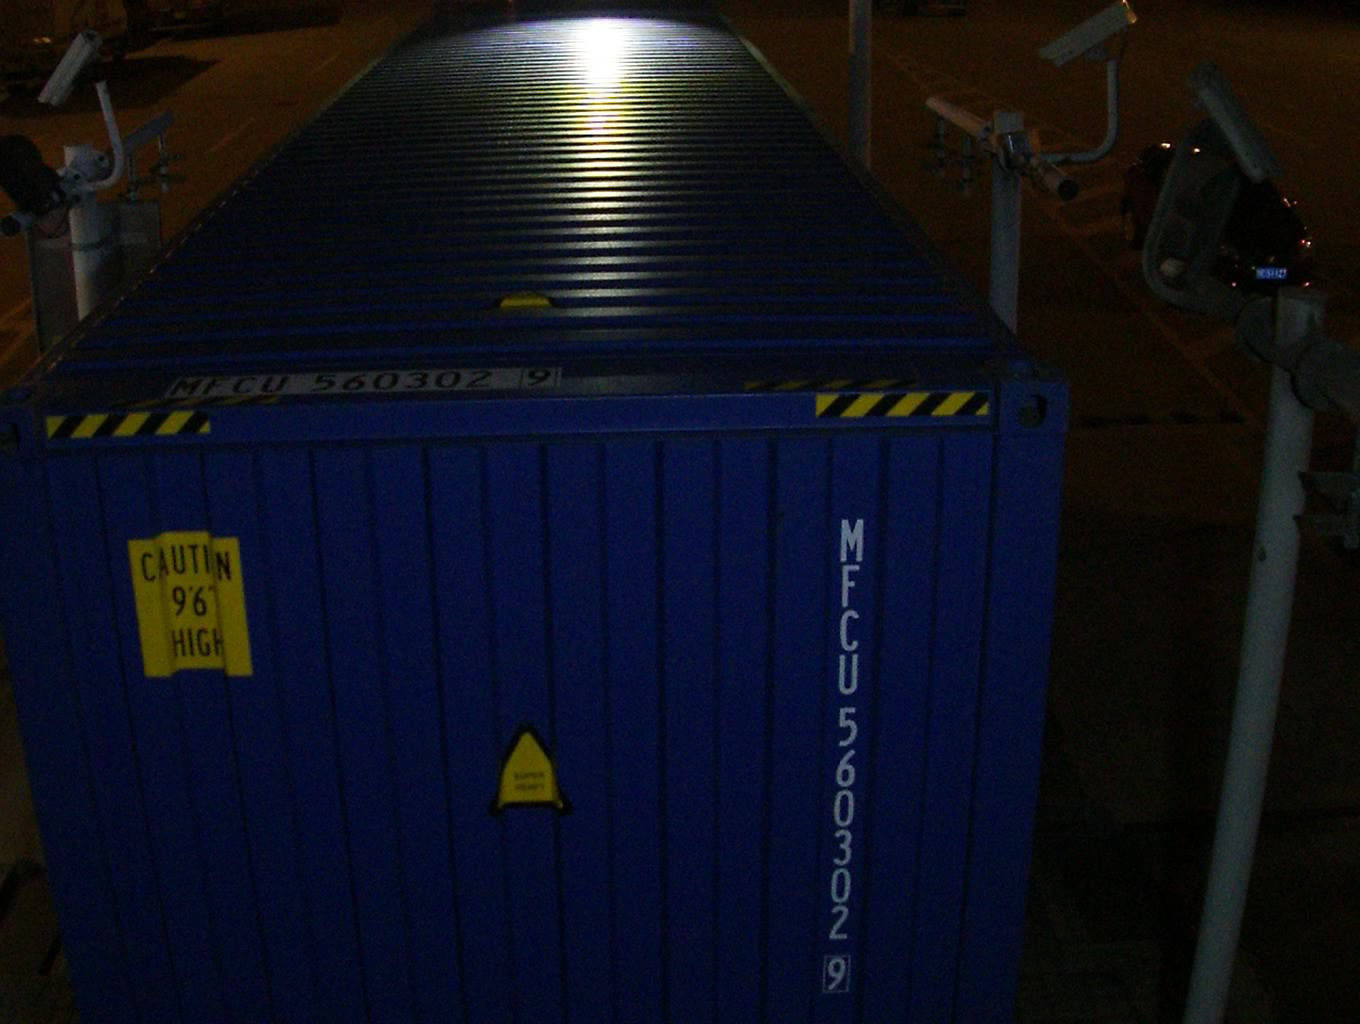words: (819, 513, 869, 998)
